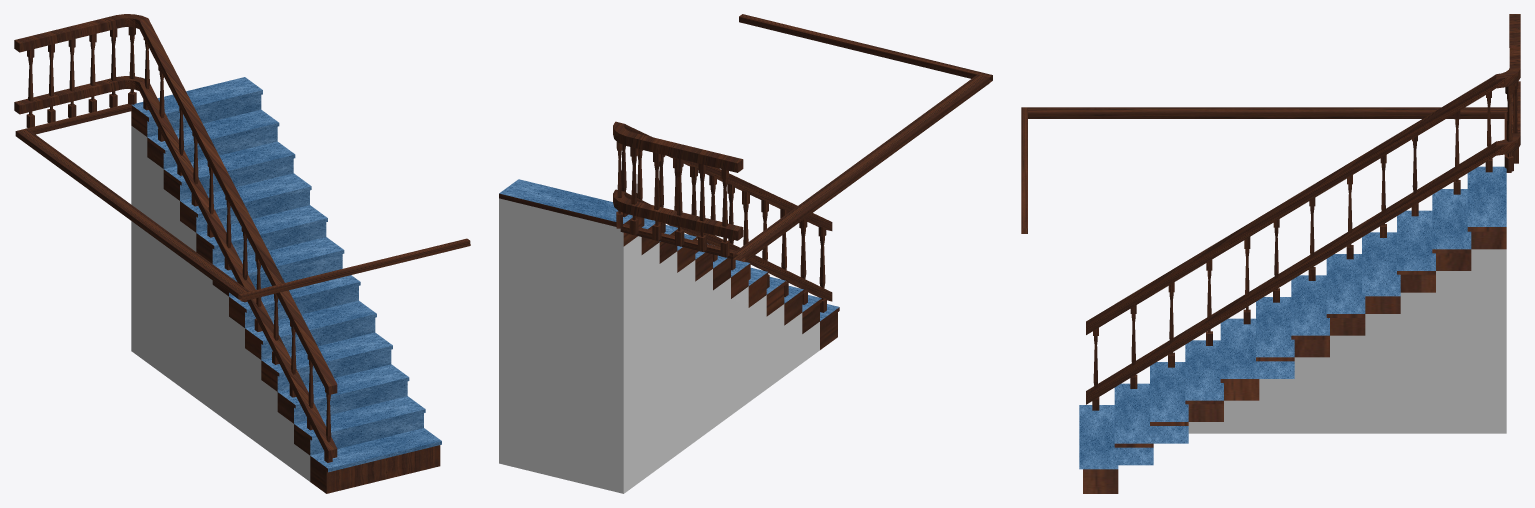
The model's file is Staircase.fbx.
3 views of the same model, side by side, from view 1: azimuth 30°, elevation 25°; view 2: azimuth 150°, elevation 25°; view 3: azimuth 270°, elevation 25° (orthographic). The views are drawn at different scales.
Parts seen in each view (by area): view 1: Staircase.003; view 2: Staircase.003; view 3: Staircase.003.
Part boxes in pixels (x1,y1,x2,y2): Staircase.003: [14, 14, 470, 493]; Staircase.003: [499, 14, 992, 493]; Staircase.003: [1021, 14, 1520, 493].
Size of the model in its own units: 293 by 407 by 510.
